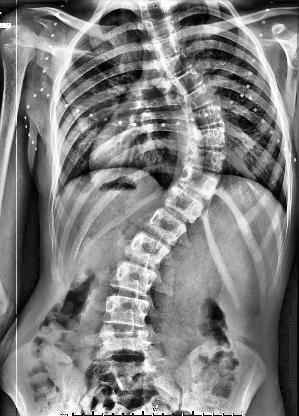Vertebrae: (102, 291, 152, 329), (161, 183, 207, 223), (124, 231, 172, 269), (97, 356, 153, 388), (98, 326, 156, 356), (145, 208, 187, 249), (111, 262, 158, 296), (177, 168, 221, 196), (188, 144, 230, 173), (182, 84, 220, 112), (192, 126, 232, 152), (152, 37, 184, 65), (190, 106, 227, 130), (171, 70, 203, 92), (160, 54, 192, 76)
